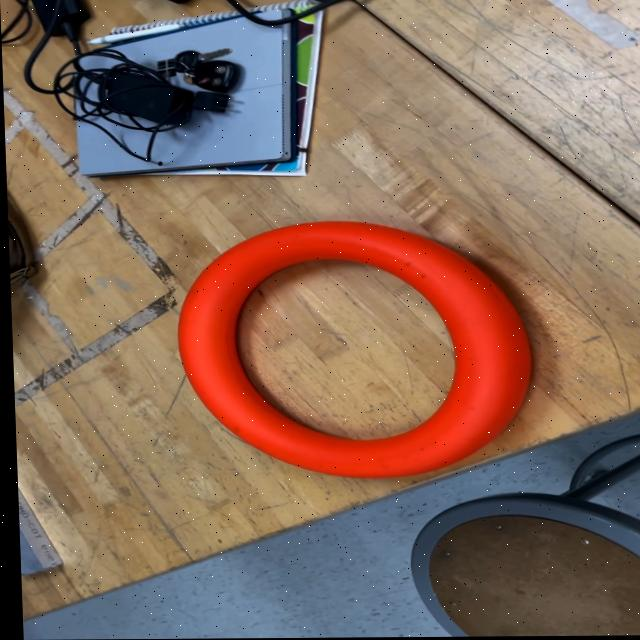note: (173, 220, 534, 481)
